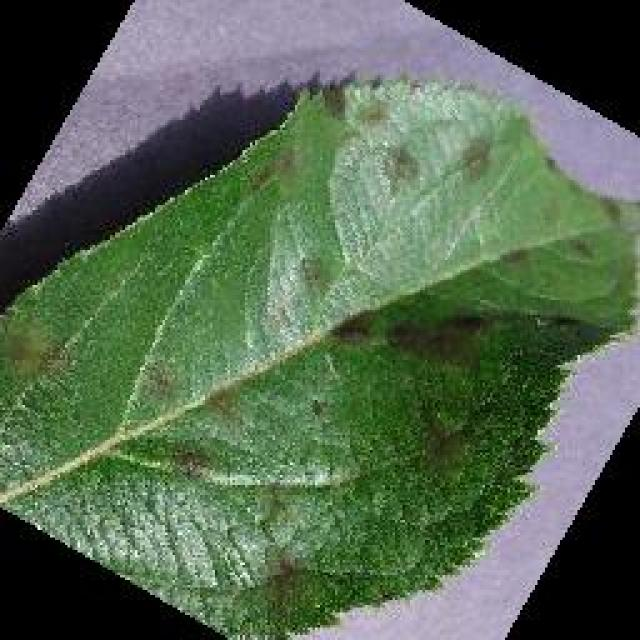apple scab disease: (0, 68, 638, 638)
